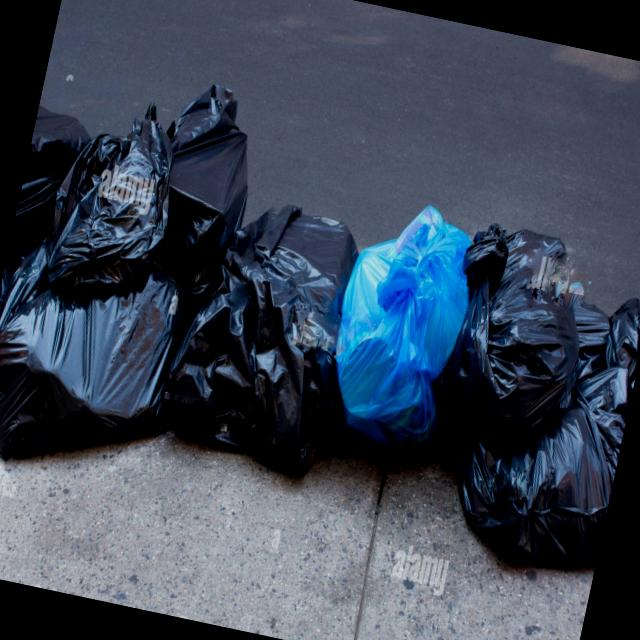garbage: (0, 49, 640, 586)
